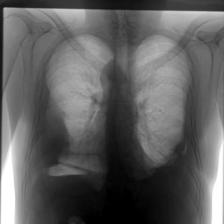tuberculosis: (20, 25, 206, 224)
